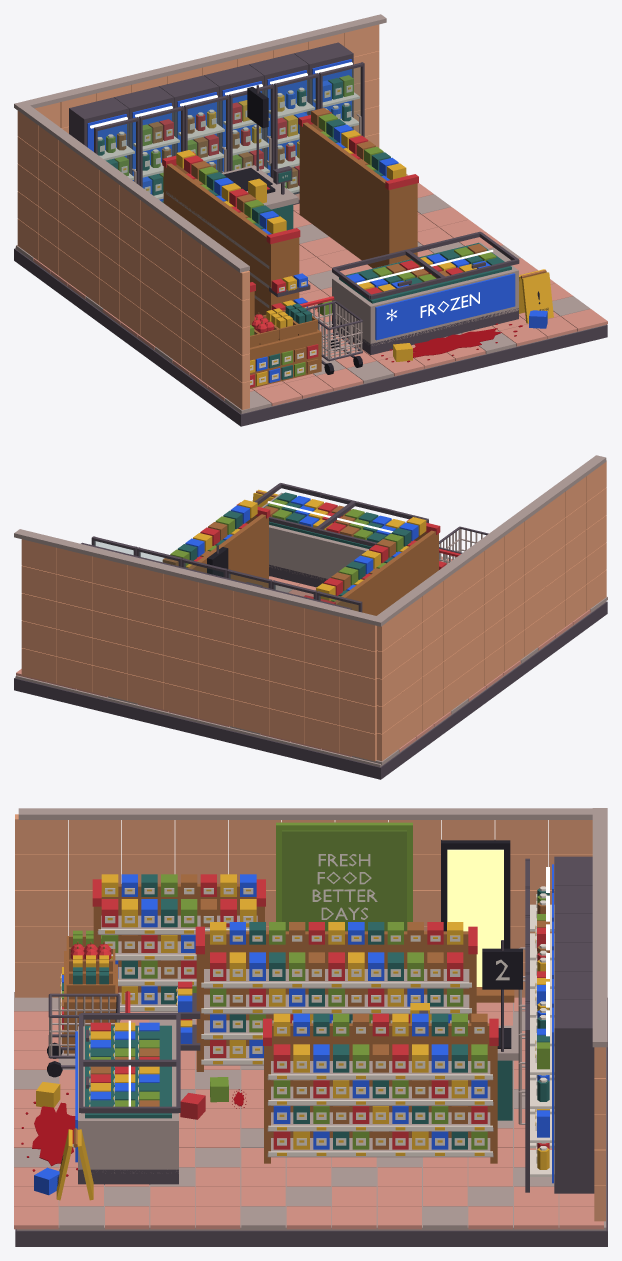
3 renders of one model, top to bottom at view 1: azimuth 30°, elevation 25°; view 2: azimuth 150°, elevation 25°; view 3: azimuth 270°, elevation 25°, orthographic. The views are drawn at different scales.
Visible parts, largest first — view 1: static_pal_skinWarm, static_pal_woodWarm, static_pal_asphalt, static_pal_sidewalk, static_pal_skinBlush, static_pal_policeBlue, static_pal_schoolBusYellow, static_pal_picketWhite, static_pal_backpackTeal, static_pal_survivorRed, door_fridge_04_mesh, static_pal_foliage (+10 smaller); view 2: static_pal_skinWarm, static_pal_sidewalk, static_pal_asphalt, static_pal_woodWarm, static_pal_backpackTeal, static_pal_schoolBusYellow, static_pal_skinBlush, static_pal_policeBlue, static_pal_survivorRed, static_pal_foliage, door_freezer_00_mesh, door_freezer_01_mesh (+2 smaller); view 3: static_pal_sidewalk, static_pal_skinBlush, static_pal_skinWarm, static_pal_asphalt, static_pal_picketWhite, static_pal_woodWarm, static_pal_schoolBusYellow, static_pal_backpackTeal, static_pal_foliage, static_pal_survivorRed, static_pal_policeBlue, static_pal_grass (+7 smaller).
Part boxes in pixels (x1,y1,x2,y2): static_pal_skinWarm: [17, 24, 379, 409]; static_pal_woodWarm: [117, 108, 546, 388]; static_pal_asphalt: [14, 42, 607, 426]; static_pal_sidewalk: [14, 14, 605, 413]; static_pal_skinBlush: [33, 174, 607, 405]; static_pal_policeBlue: [87, 59, 547, 382]; static_pal_schoolBusYellow: [123, 87, 553, 385]; static_pal_picketWhite: [97, 85, 359, 385]; static_pal_backpackTeal: [97, 78, 511, 379]; static_pal_survivorRed: [159, 102, 463, 387]; door_fridge_04_mesh: [274, 73, 319, 204]; static_pal_foliage: [106, 75, 496, 376]; static_pal_skinWarm: [21, 460, 606, 761]; static_pal_sidewalk: [14, 455, 607, 767]; static_pal_asphalt: [14, 526, 607, 779]; static_pal_woodWarm: [162, 490, 438, 615]; static_pal_backpackTeal: [177, 492, 411, 596]; static_pal_schoolBusYellow: [185, 489, 426, 600]; static_pal_skinBlush: [16, 556, 590, 756]; static_pal_policeBlue: [185, 496, 418, 590]; static_pal_survivorRed: [194, 502, 460, 604]; static_pal_foliage: [170, 499, 403, 601]; door_freezer_00_mesh: [315, 501, 428, 546]; door_freezer_01_mesh: [254, 483, 354, 532]; static_pal_sidewalk: [14, 808, 607, 1230]; static_pal_skinBlush: [14, 997, 603, 1229]; static_pal_skinWarm: [15, 814, 605, 1221]; static_pal_asphalt: [15, 856, 607, 1246]; static_pal_picketWhite: [61, 854, 554, 1176]; static_pal_woodWarm: [62, 874, 549, 1163]; static_pal_schoolBusYellow: [36, 874, 549, 1200]; static_pal_backpackTeal: [62, 874, 549, 1149]; static_pal_foliage: [62, 822, 549, 1149]; static_pal_survivorRed: [62, 874, 549, 1149]; static_pal_policeBlue: [34, 864, 553, 1195]; static_pal_grass: [282, 830, 406, 931].
Size of the model in its own units: 8.4 by 3.44 by 9.02.
